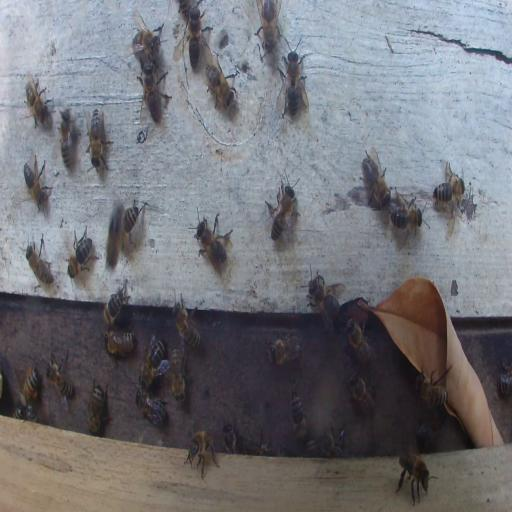bee: (277, 32, 310, 122), (188, 209, 234, 273), (263, 169, 299, 247), (389, 184, 424, 244), (138, 63, 172, 123), (396, 451, 433, 505), (184, 426, 220, 478), (86, 105, 113, 173), (361, 147, 391, 208), (23, 155, 52, 216), (173, 293, 201, 351), (204, 60, 236, 110), (24, 75, 54, 128), (131, 12, 165, 58), (307, 265, 330, 331), (46, 353, 74, 407), (68, 226, 96, 278), (396, 278, 434, 316), (433, 162, 465, 207), (26, 236, 53, 287), (266, 330, 302, 366), (102, 280, 129, 328), (344, 316, 372, 362), (140, 338, 166, 386), (348, 372, 376, 414), (136, 390, 166, 427), (58, 107, 76, 168), (121, 205, 146, 247), (257, 1, 280, 46), (106, 202, 121, 270), (104, 328, 137, 358), (418, 378, 448, 410), (21, 362, 41, 408), (290, 390, 308, 440), (88, 382, 105, 434), (319, 426, 346, 458), (189, 7, 201, 69), (171, 349, 185, 402), (416, 423, 436, 450), (222, 423, 238, 455), (500, 359, 512, 397), (250, 437, 272, 455), (170, 348, 183, 374), (14, 404, 36, 419), (306, 438, 321, 456)
